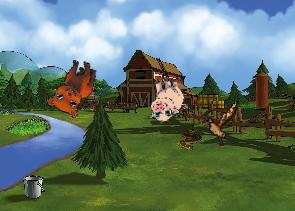bear: (44, 53, 99, 120)
eagle: (202, 99, 239, 147)
pig: (144, 75, 188, 122)
